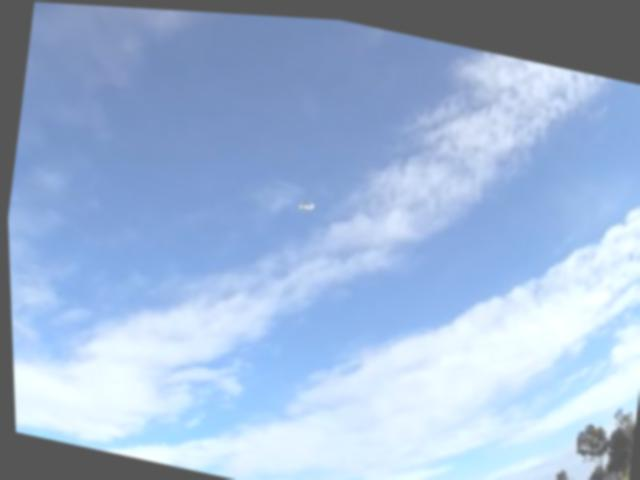uav: (287, 183, 322, 218)
